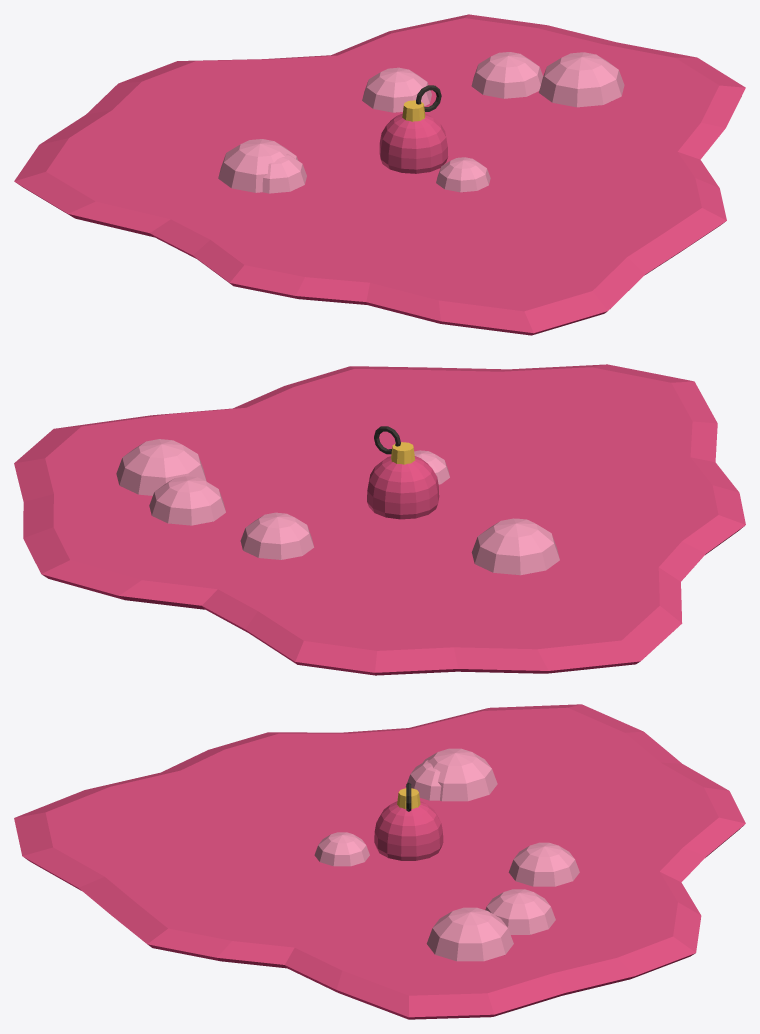
Rendered from goo.glb.
3 renders of one model, top to bottom at view 1: azimuth 30°, elevation 25°; view 2: azimuth 150°, elevation 25°; view 3: azimuth 270°, elevation 25°, orthographic. The views are drawn at different scales.
Parts seen in each view (by area): view 1: goo_pool, goo_nade; view 2: goo_pool, goo_nade; view 3: goo_pool, goo_nade.
Boxes of the visible parts, x1,y1,x2,y2 form: goo_pool: (14,14,745,335); goo_nade: (379,85,448,173); goo_pool: (14,364,745,675); goo_nade: (367,426,439,519); goo_pool: (14,704,745,1019); goo_nade: (374,782,443,860).
Size of the model in its own units: 2.16 by 0.3444 by 2.14.
